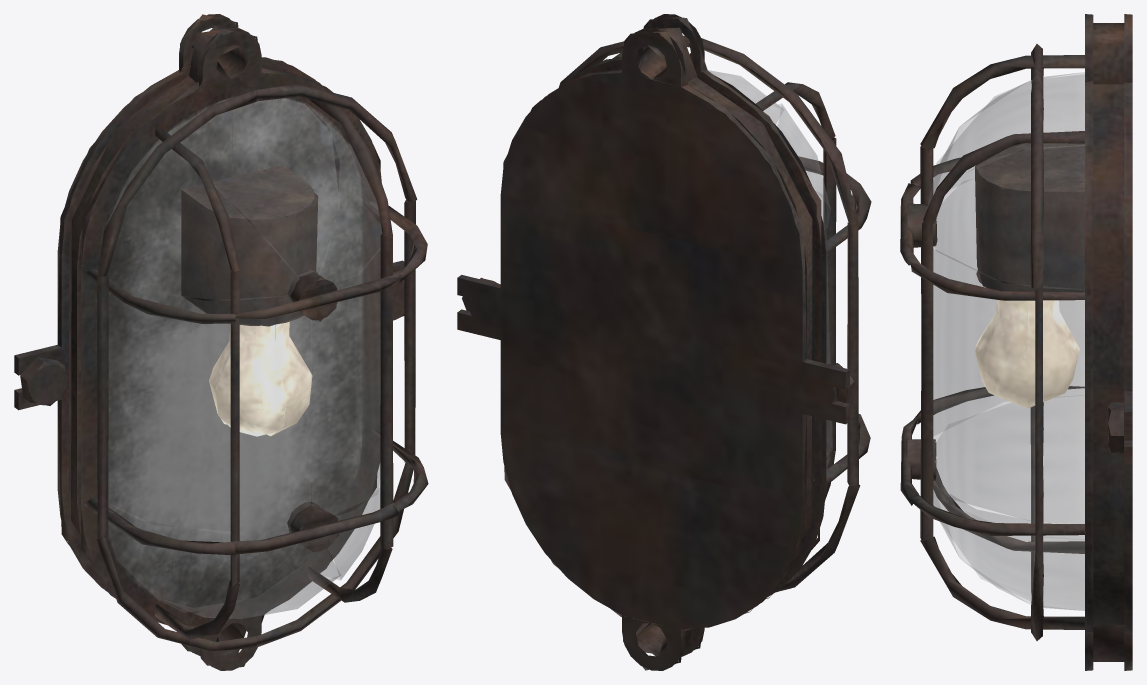
Rendered from industrial_wall_lamp.glb.
3 renders of one model, left to right at view 1: azimuth 30°, elevation 25°; view 2: azimuth 150°, elevation 25°; view 3: azimuth 270°, elevation 25°, orthographic.
Parts seen in each view (by area): view 1: industrial_wall_lamp; view 2: industrial_wall_lamp; view 3: industrial_wall_lamp.
Boxes of the visible parts, x1,y1,x2,y2 form: industrial_wall_lamp: (14,14,428,670); industrial_wall_lamp: (457,14,871,670); industrial_wall_lamp: (900,14,1132,670).
Bounding box in the file's own units: 0.2737 × 0.432 × 0.1399.
Materials: 2 (2 with a texture image).
